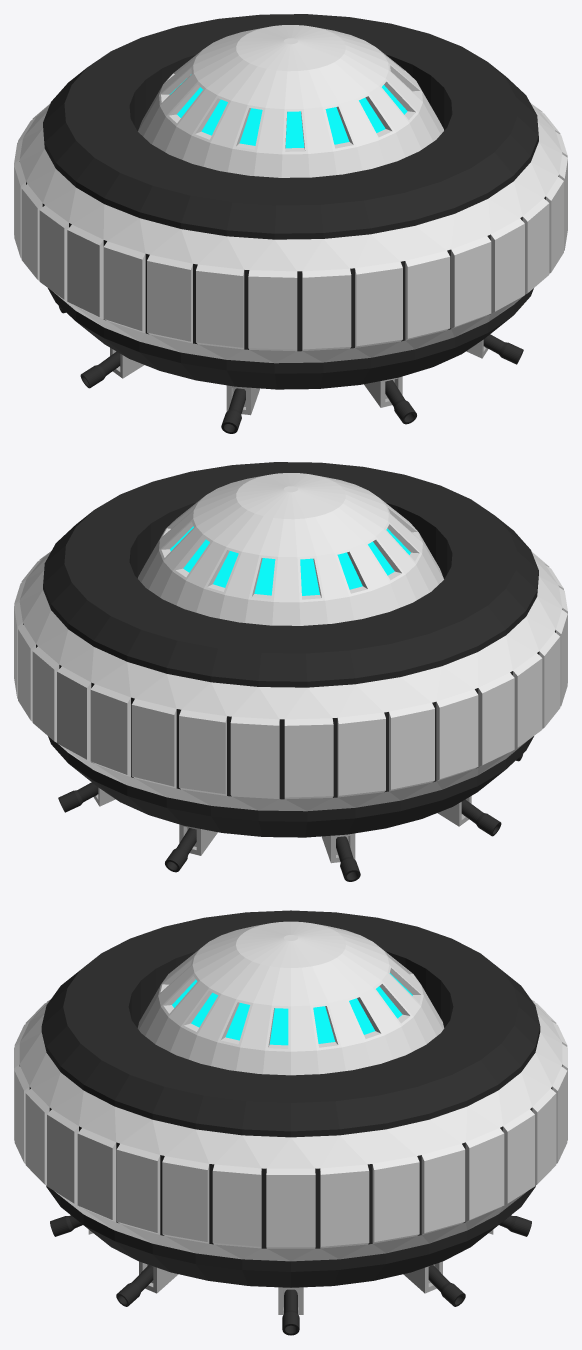
The model's file is dreadnought_new.fbx.
3 renders of one model, top to bottom at view 1: azimuth 30°, elevation 25°; view 2: azimuth 150°, elevation 25°; view 3: azimuth 270°, elevation 25°, orthographic.
Parts seen in each view (by area): view 1: Dreadnought; view 2: Dreadnought; view 3: Dreadnought.
Part boxes in pixels (<box>): Dreadnought: <box>14,14,567,433</box>; Dreadnought: <box>14,462,567,881</box>; Dreadnought: <box>14,910,567,1335</box>.
Bounding box in the file's own units: 405 × 244 × 405.
